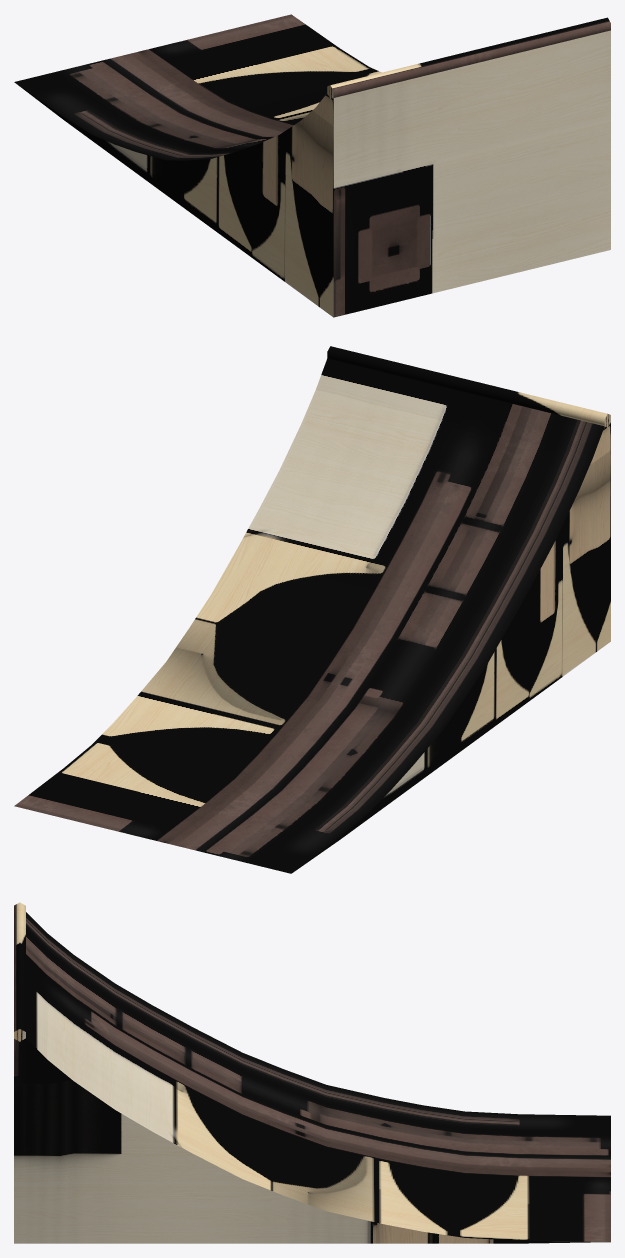
Rendered from Ramp01.fbx.
The picture shows the model from 3 angles, top to bottom: view 1: azimuth 30°, elevation 25°; view 2: azimuth 150°, elevation 25°; view 3: azimuth 270°, elevation 25°; orthographic projection. The views are drawn at different scales.
Visible parts, largest first — view 1: Ramp01; view 2: Ramp01; view 3: Ramp01.
Boxes of the visible parts, x1,y1,x2,y2 form: Ramp01: (14, 14, 610, 317); Ramp01: (14, 346, 610, 873); Ramp01: (14, 902, 610, 1243).
Size of the model in its own units: 4.01 by 3.18 by 8.
